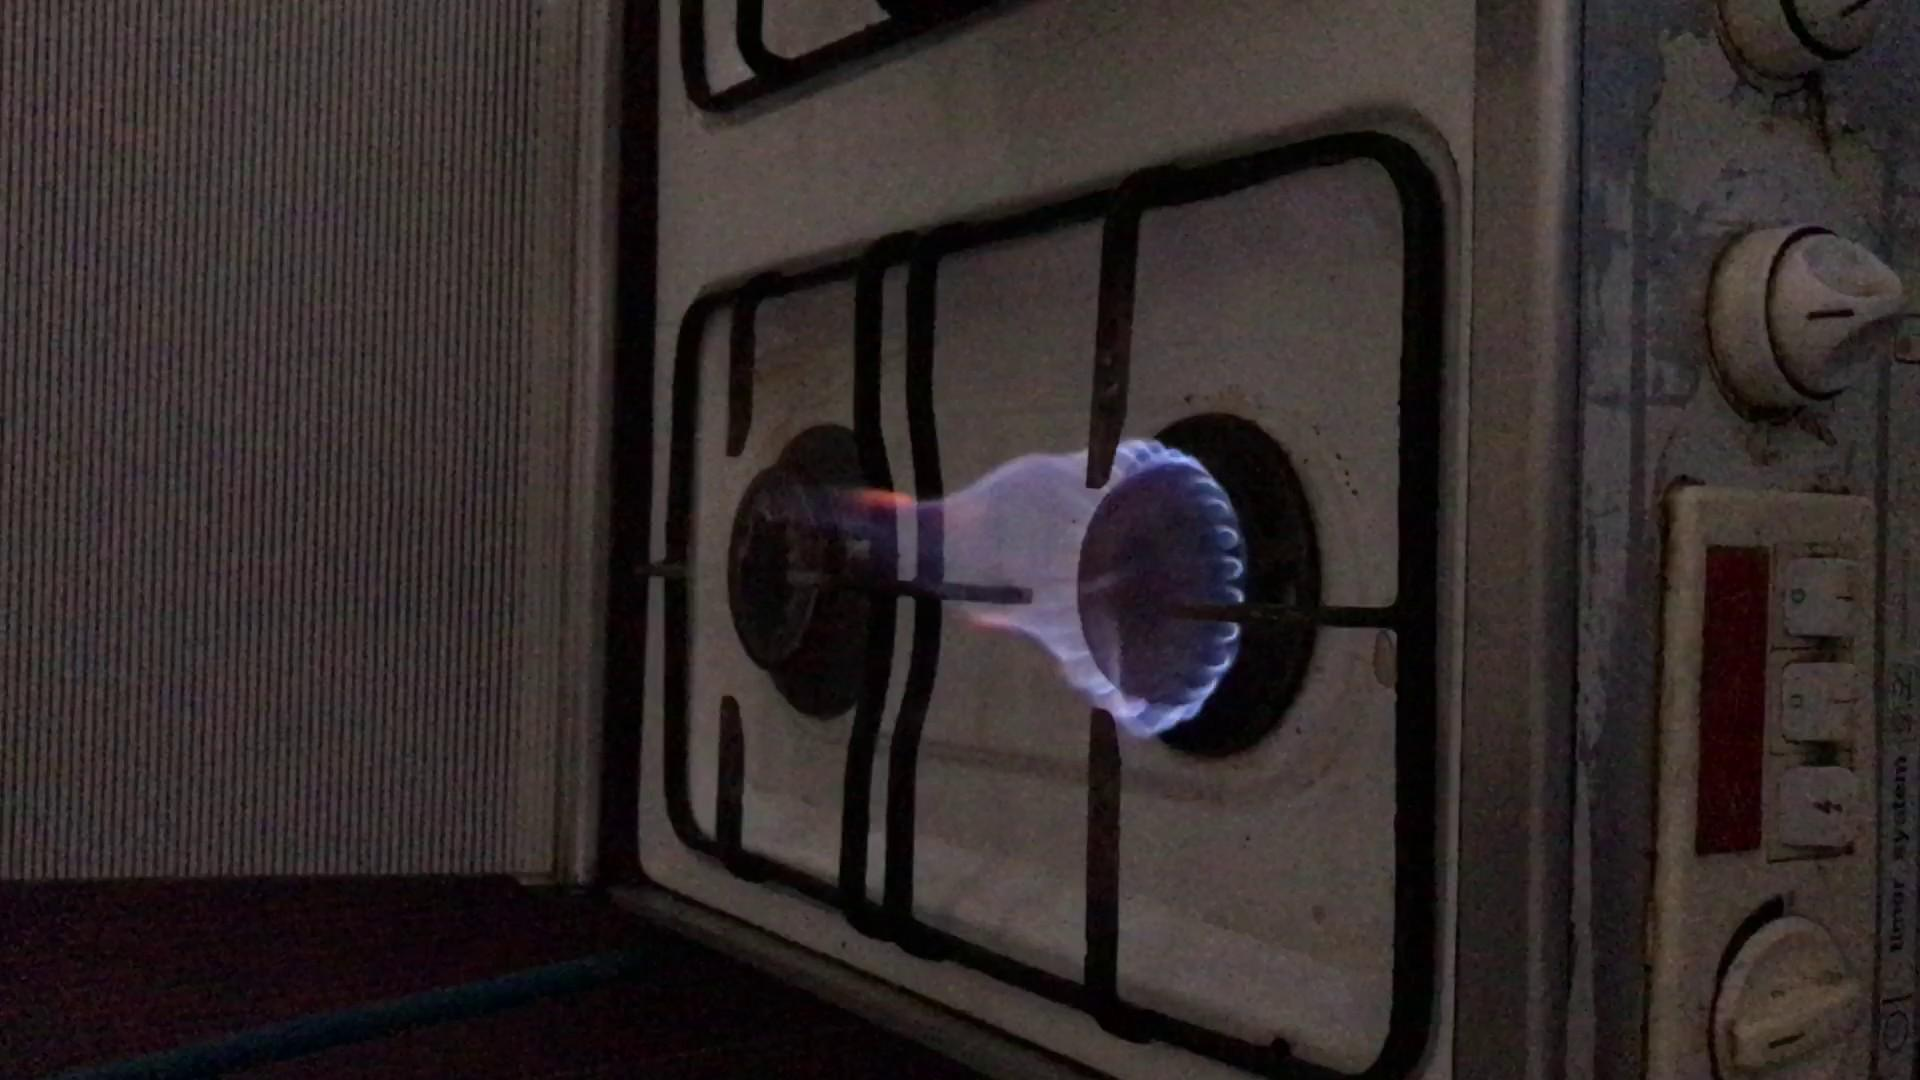fire: (897, 475, 1241, 691)
